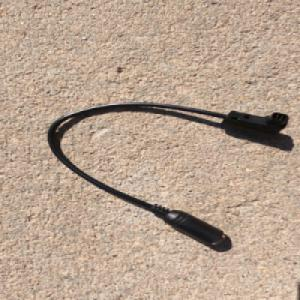Wire: (45, 101, 292, 247)
